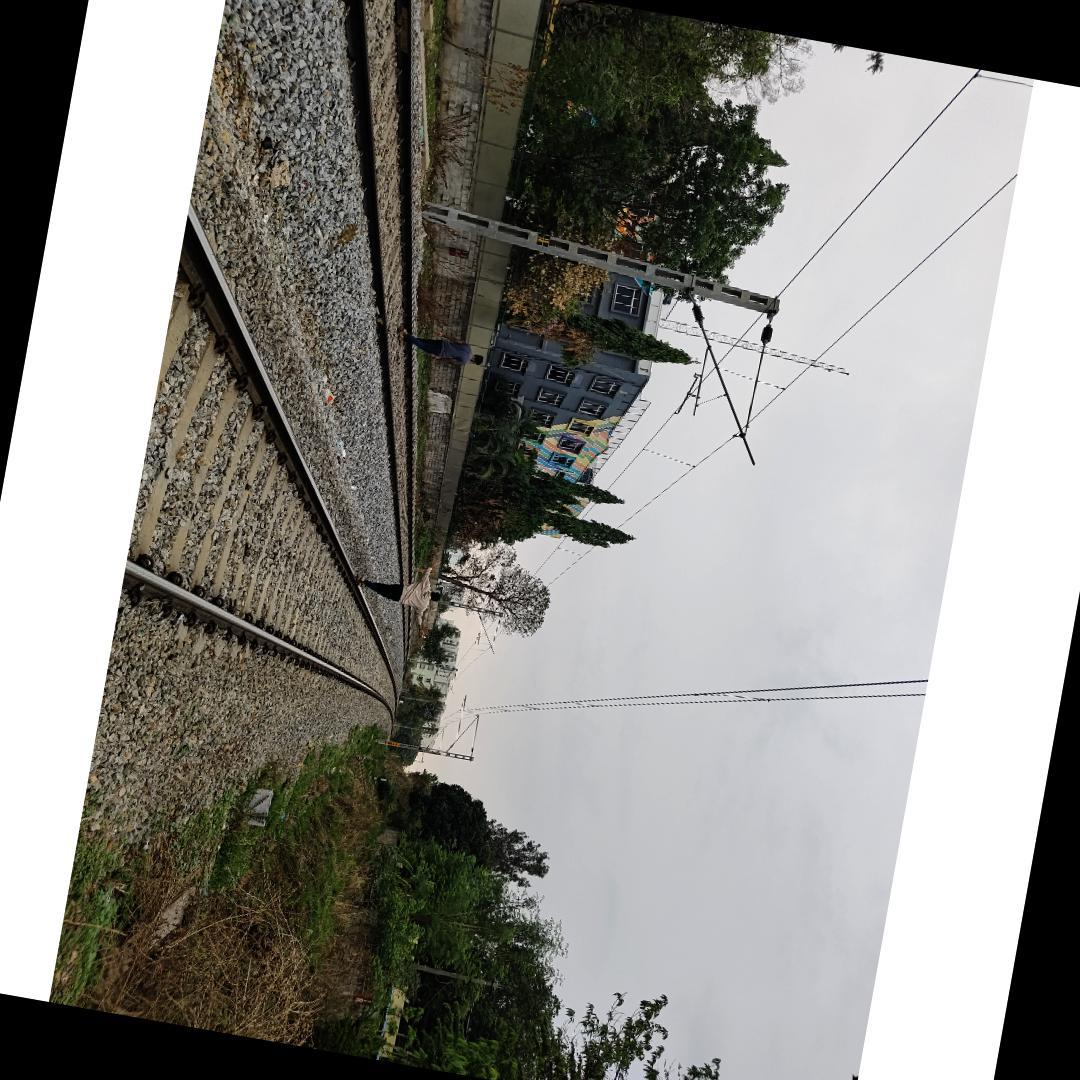standing: (352, 553, 446, 615), (392, 323, 486, 370)
track: (122, 190, 397, 718)
